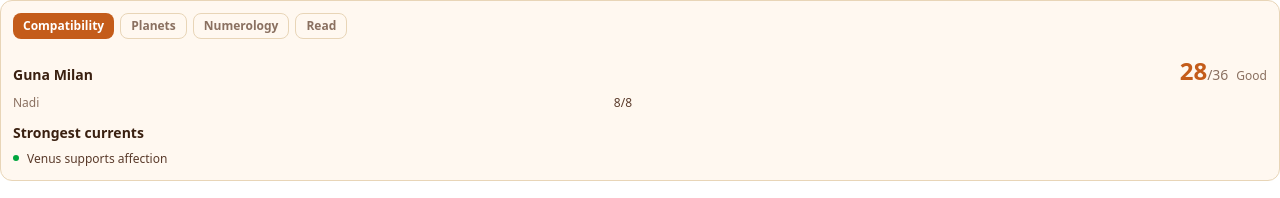
Test: MatchResultCard › clicking Read shows the passed read text
Step 1. Click the button "Read" → (321, 26), box top-left (296, 13), bottom-right (347, 39)
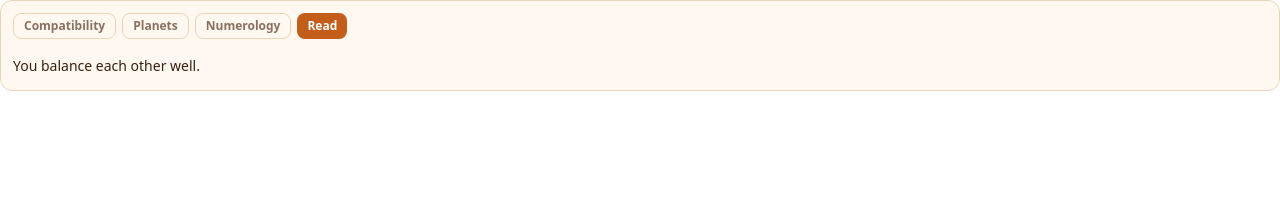
Check: the text "You balance each other well." is shown, box top-left (13, 56), bottom-right (200, 75)
